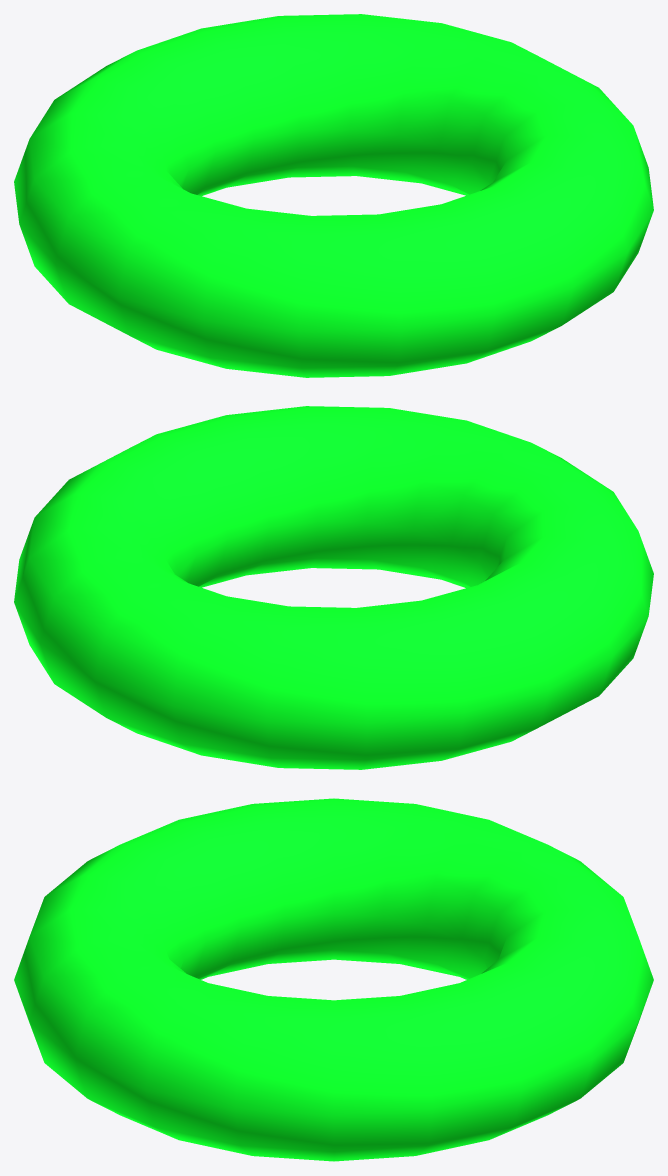
Rendered from 2181dde1-2ca4-4812-80e2-cd48dccee510.glb.
The picture shows the model from 3 angles, top to bottom: view 1: azimuth 30°, elevation 25°; view 2: azimuth 150°, elevation 25°; view 3: azimuth 270°, elevation 25°; orthographic projection.
Visible parts, largest first — view 1: BaseToroids.004; view 2: BaseToroids.004; view 3: BaseToroids.004.
Boxes of the visible parts, x1,y1,x2,y2 form: BaseToroids.004: (14,14,653,377); BaseToroids.004: (14,406,653,769); BaseToroids.004: (14,798,653,1161).
Size of what is drawn, in the model's own units: 0.9438 by 0.2278 by 0.9438.
Materials: 1 (1 with a texture image).
